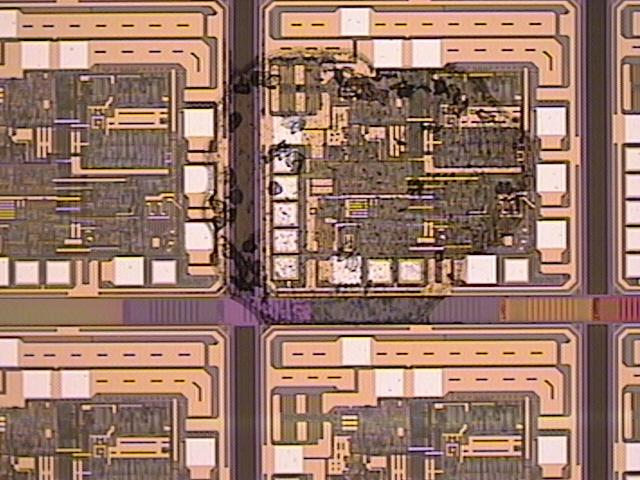PO CONTAMINATION: (199, 44, 544, 329)
